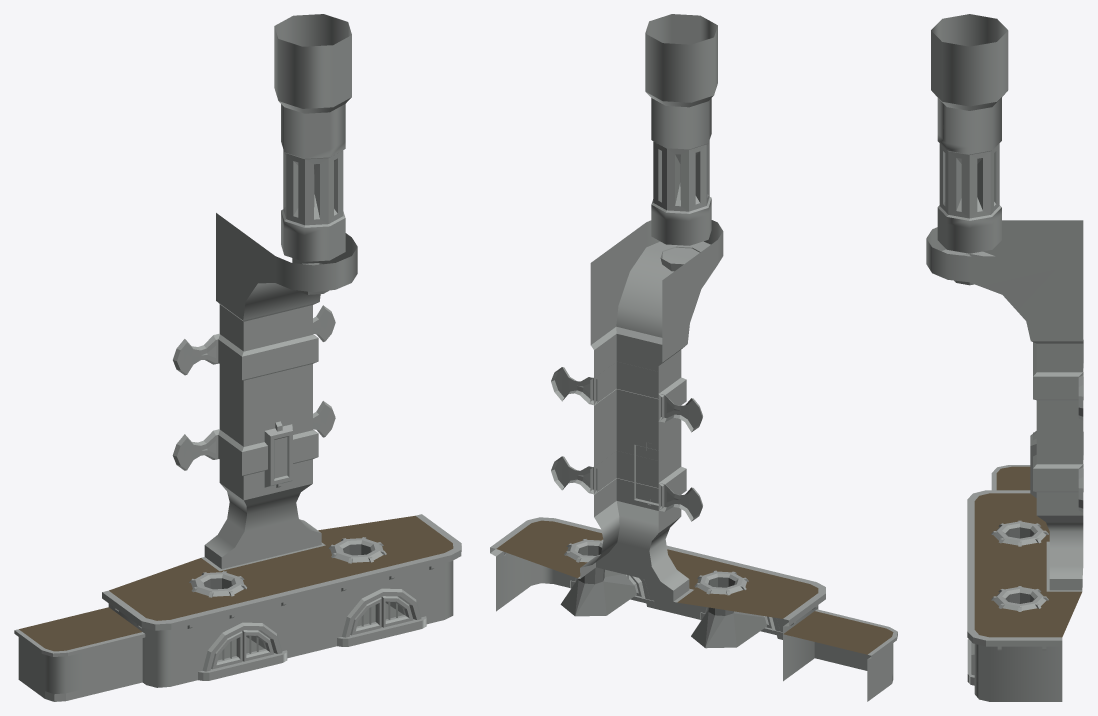
3 views of the same model, side by side, from view 1: azimuth 30°, elevation 25°; view 2: azimuth 150°, elevation 25°; view 3: azimuth 270°, elevation 25° (orthographic). The views are drawn at different scales.
Visible parts, largest first — view 1: G:\FFXIV-MapTools\exports\s1f3\bg\ffxiv\sea_s1\fld\s1f3\bgpa (×6); view 2: G:\FFXIV-MapTools\exports\s1f3\bg\ffxiv\sea_s1\fld\s1f3\bgpa (×6); view 3: G:\FFXIV-MapTools\exports\s1f3\bg\ffxiv\sea_s1\fld\s1f3\bgpa (×5).
Part boxes in pixels (x1,y1,x2,y2): G:\FFXIV-MapTools\exports\s1f3\bg\ffxiv\sea_s1\fld\s1f3\bgpa (×6): (14, 14, 461, 701); G:\FFXIV-MapTools\exports\s1f3\bg\ffxiv\sea_s1\fld\s1f3\bgpa (×6): (490, 14, 897, 701); G:\FFXIV-MapTools\exports\s1f3\bg\ffxiv\sea_s1\fld\s1f3\bgpa (×5): (926, 14, 1083, 701).
Bounding box in the file's own units: 4.4 × 6.43 × 1.53.
